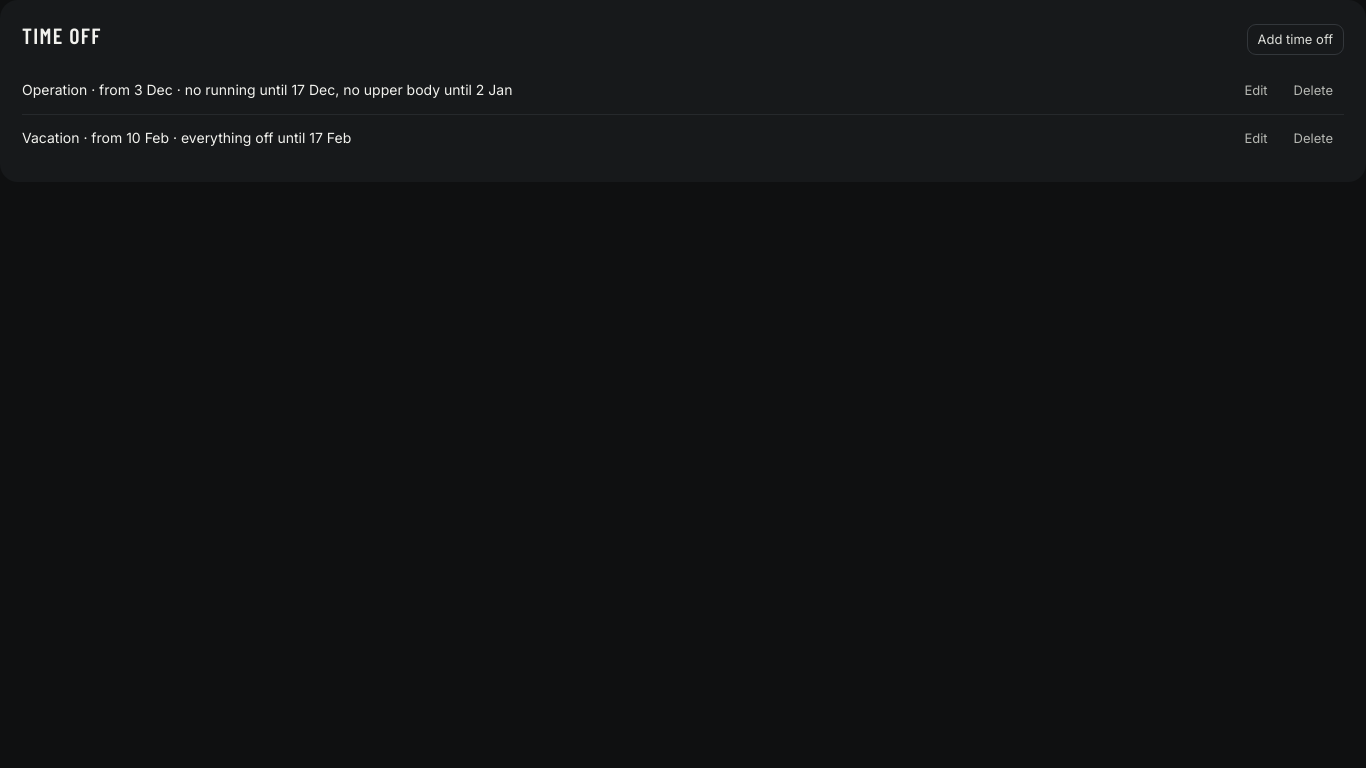
Scenario: TimeOffCard › shows the server's message when it refuses
Click the button "Add time off" at {"x": 1295, "y": 39}, box [1246,24,1344,55]
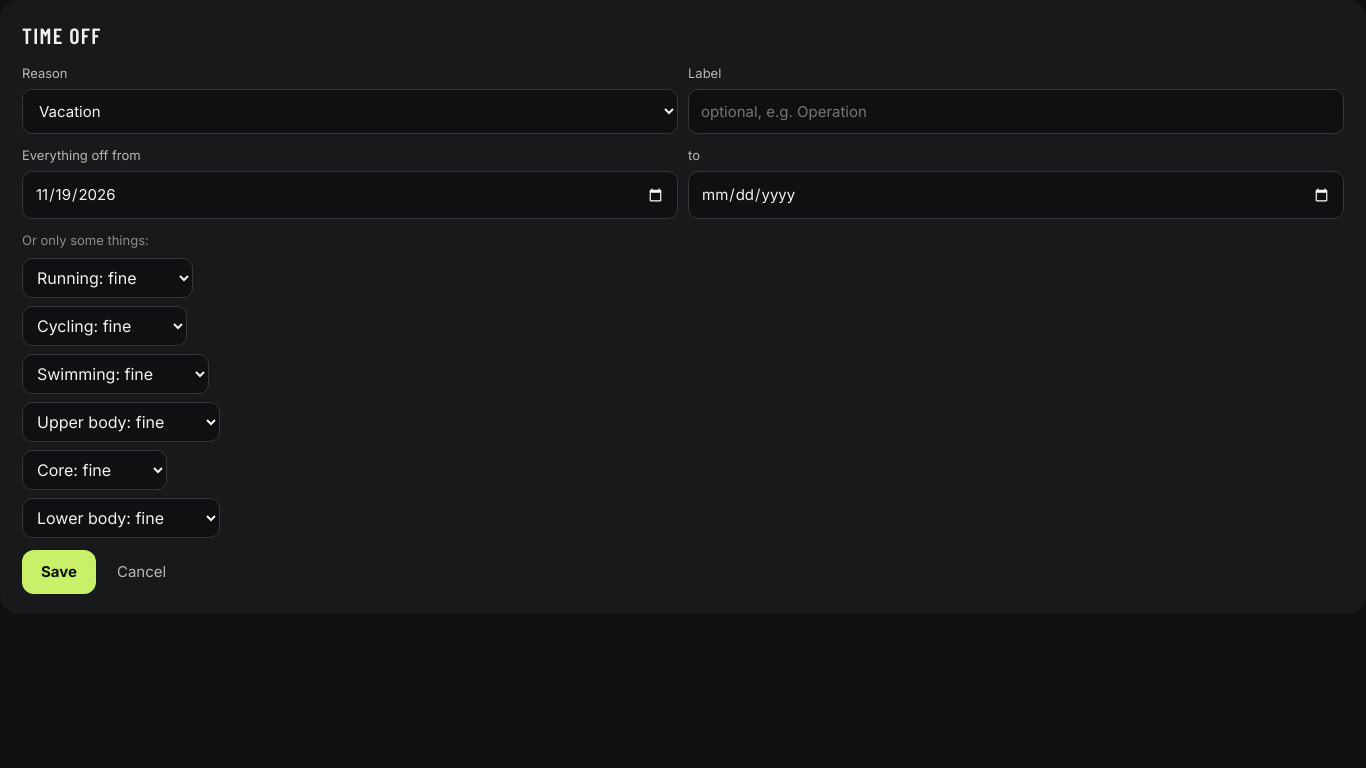
Type "2026-12-01" into the date field labelled "to" at {"x": 1016, "y": 195}, box [688,171,1344,219]
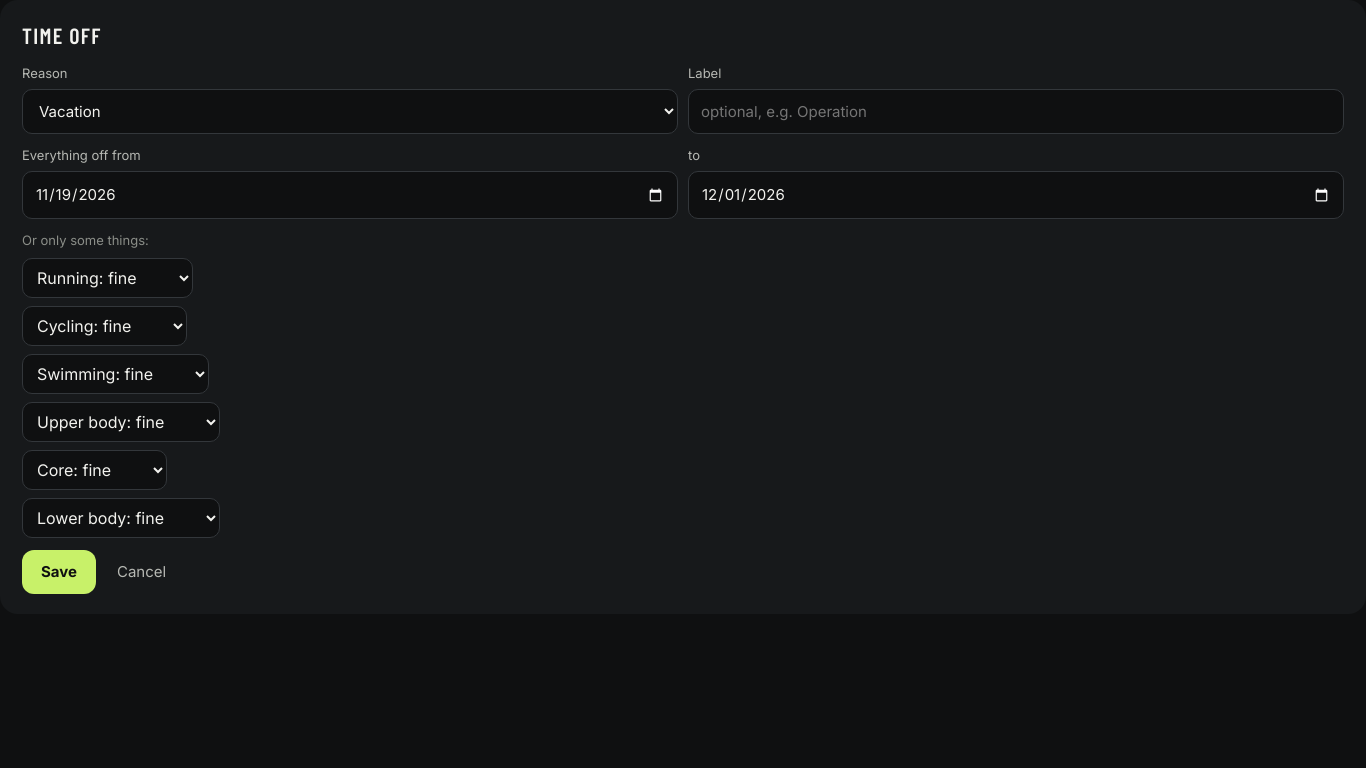
Click the button "Save" at {"x": 59, "y": 572}, box [22,550,96,594]
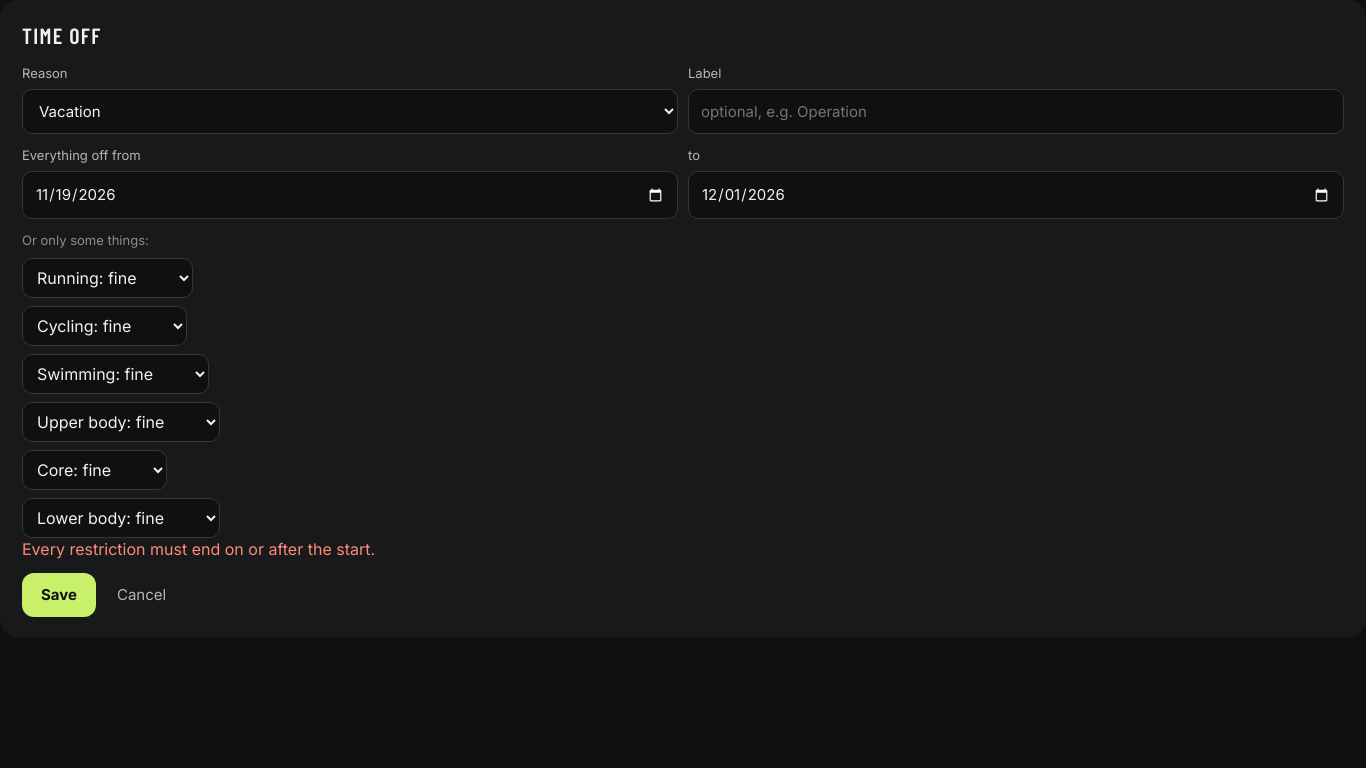
Expected: the message reads "Every restriction must end on or after the start.", [22,539,375,559]
